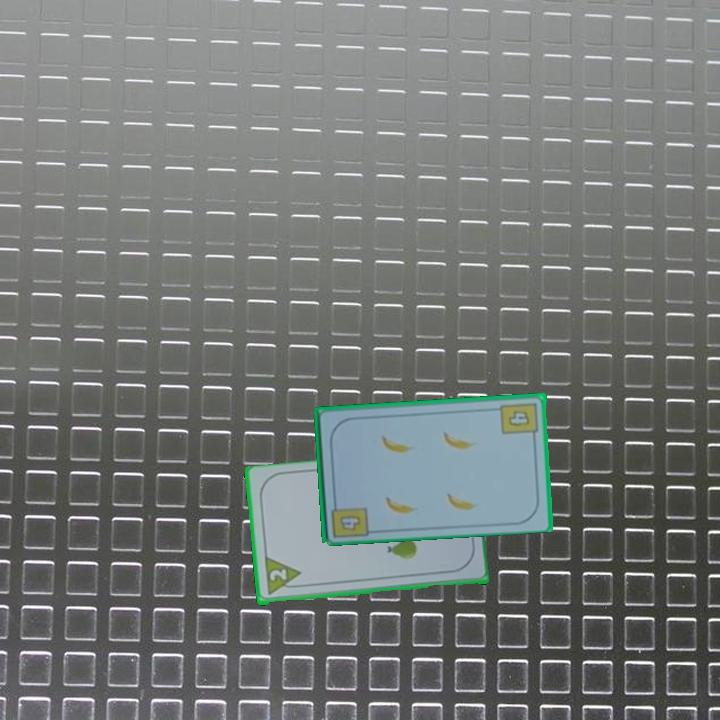2p: (261, 555, 304, 598)
4b: (327, 496, 371, 540), (498, 399, 541, 442)
